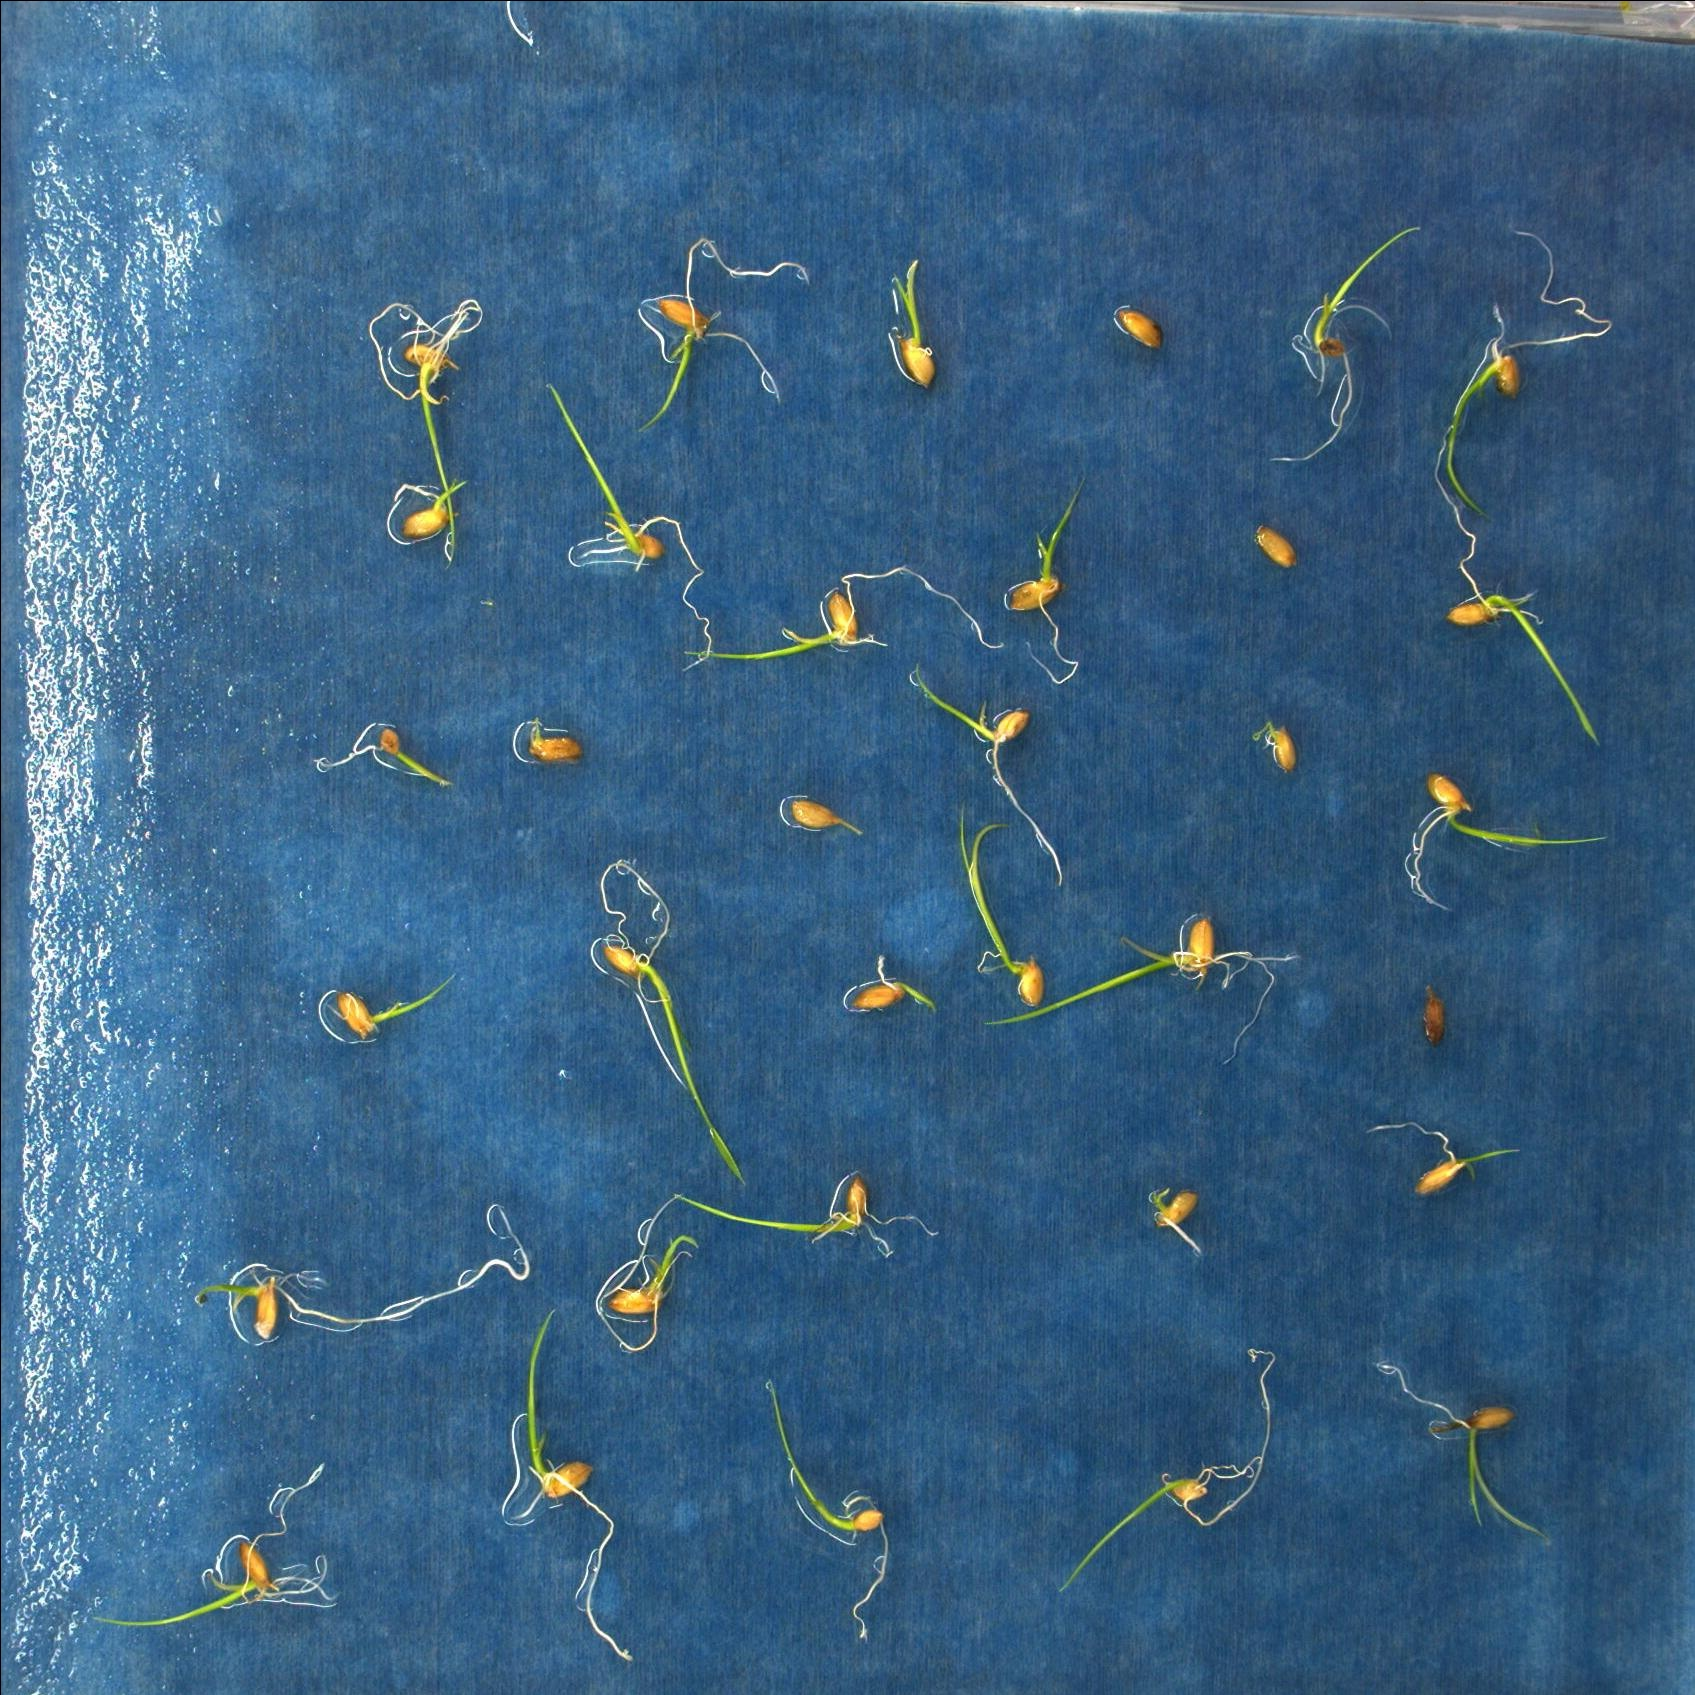not sprout: (789, 799, 865, 837), (1114, 304, 1166, 348), (1254, 525, 1301, 571), (1423, 983, 1445, 1048)
sprout: (1431, 421, 1600, 747), (1060, 1347, 1274, 1593), (590, 858, 745, 1187), (1447, 227, 1614, 522), (983, 914, 1305, 1066), (546, 380, 712, 671), (194, 1203, 529, 1343), (96, 1464, 337, 1627), (526, 1312, 633, 1664), (903, 661, 1066, 886), (1270, 225, 1423, 463), (638, 234, 810, 432), (767, 1380, 891, 1641), (1374, 1358, 1548, 1538), (366, 298, 480, 573), (685, 565, 1004, 661), (1412, 768, 1607, 913), (675, 1173, 938, 1257), (958, 796, 1046, 1007), (594, 1194, 700, 1354), (1010, 477, 1083, 685), (1366, 1122, 1520, 1198), (335, 970, 459, 1040), (317, 725, 452, 785), (891, 259, 941, 388), (851, 955, 938, 1014), (404, 480, 470, 542), (1147, 1187, 1206, 1257), (528, 717, 587, 764), (1253, 719, 1299, 771)
